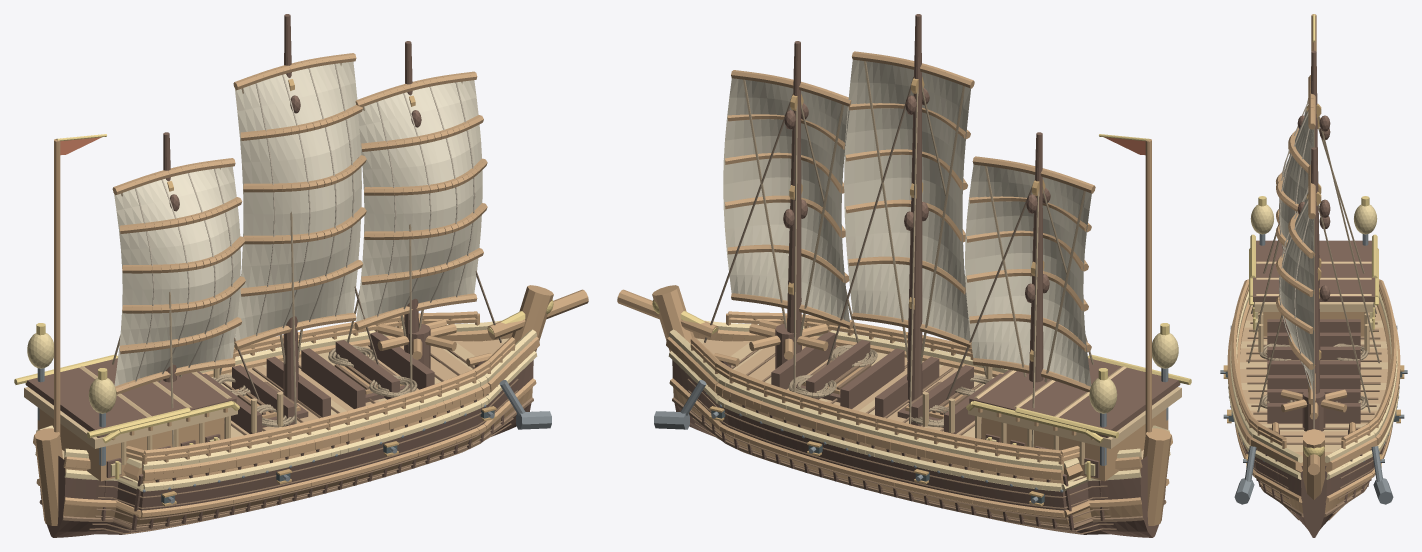
File: javanese_jong-v5.glb
3 views of the same model, side by side, from view 1: azimuth 30°, elevation 25°; view 2: azimuth 150°, elevation 25°; view 3: azimuth 270°, elevation 25° (orthographic). The views are drawn at different scales.
Parts seen in each view (by area): view 1: javanese_jong_sails_sail, javanese_jong_rigging_wood, javanese_jong_hull_wood, javanese_jong_hull_darkwood, javanese_jong_hull_pale, javanese_jong_ornament_darkwood, javanese_jong_railings_wood, javanese_jong_deck_darkwood, javanese_jong_hull_seam, javanese_jong_rigging_sailshade, javanese_jong_masts_darkwood, javanese_jong_deck_wood (+13 smaller); view 2: javanese_jong_sails_sail, javanese_jong_hull_wood, javanese_jong_rigging_wood, javanese_jong_hull_darkwood, javanese_jong_masts_darkwood, javanese_jong_hull_pale, javanese_jong_ornament_darkwood, javanese_jong_railings_wood, javanese_jong_deck_darkwood, javanese_jong_hull_seam, javanese_jong_rigging_rope, javanese_jong_masts_rope (+15 smaller); view 3: javanese_jong_ornament_darkwood, javanese_jong_hull_wood, javanese_jong_sails_sail, javanese_jong_deck_darkwood, javanese_jong_hull_deck, javanese_jong_rigging_wood, javanese_jong_railings_wood, javanese_jong_hull_pale, javanese_jong_hull_darkwood, javanese_jong_hull_seam, javanese_jong_masts_darkwood, javanese_jong_masts_rope (+14 smaller).
Part boxes in pixels (<box>): javanese_jong_sails_sail: <box>113,61,482,386</box>; javanese_jong_rigging_wood: <box>112,53,487,394</box>; javanese_jong_hull_wood: <box>33,285,588,526</box>; javanese_jong_hull_darkwood: <box>40,360,533,537</box>; javanese_jong_hull_pale: <box>35,320,537,491</box>; javanese_jong_ornament_darkwood: <box>203,331,434,438</box>; javanese_jong_railings_wood: <box>126,311,515,474</box>; javanese_jong_deck_darkwood: <box>25,358,236,477</box>; javanese_jong_hull_seam: <box>39,344,533,534</box>; javanese_jong_rigging_sailshade: <box>135,63,475,381</box>; javanese_jong_masts_darkwood: <box>163,14,421,402</box>; javanese_jong_deck_wood: <box>37,408,227,481</box>; javanese_jong_sails_sail: <box>723,59,1092,386</box>; javanese_jong_hull_wood: <box>617,285,1172,526</box>; javanese_jong_rigging_wood: <box>724,51,1095,391</box>; javanese_jong_hull_darkwood: <box>672,360,1165,537</box>; javanese_jong_masts_darkwood: <box>783,14,1050,402</box>; javanese_jong_hull_pale: <box>668,320,1170,491</box>; javanese_jong_ornament_darkwood: <box>771,331,1002,438</box>; javanese_jong_railings_wood: <box>690,311,1079,474</box>; javanese_jong_deck_darkwood: <box>969,358,1180,477</box>; javanese_jong_hull_seam: <box>672,344,1166,534</box>; javanese_jong_rigging_rope: <box>743,61,1085,381</box>; javanese_jong_masts_rope: <box>793,85,1093,458</box>; javanese_jong_ornament_darkwood: <box>1267,319,1360,423</box>; javanese_jong_hull_wood: <box>1227,299,1400,512</box>; javanese_jong_sails_sail: <box>1280,110,1313,391</box>; javanese_jong_deck_darkwood: <box>1253,240,1374,301</box>; javanese_jong_hull_deck: <box>1240,307,1387,456</box>; javanese_jong_rigging_wood: <box>1276,75,1315,404</box>; javanese_jong_railings_wood: <box>1231,279,1396,448</box>; javanese_jong_hull_pale: <box>1228,291,1399,479</box>; javanese_jong_hull_darkwood: <box>1242,441,1385,537</box>; javanese_jong_hull_seam: <box>1238,314,1389,520</box>; javanese_jong_masts_darkwood: <box>1297,50,1330,393</box>; javanese_jong_masts_rope: <box>1248,116,1379,412</box>.
Bounding box in the file's own units: 61.3 × 50.46 × 21.58.
